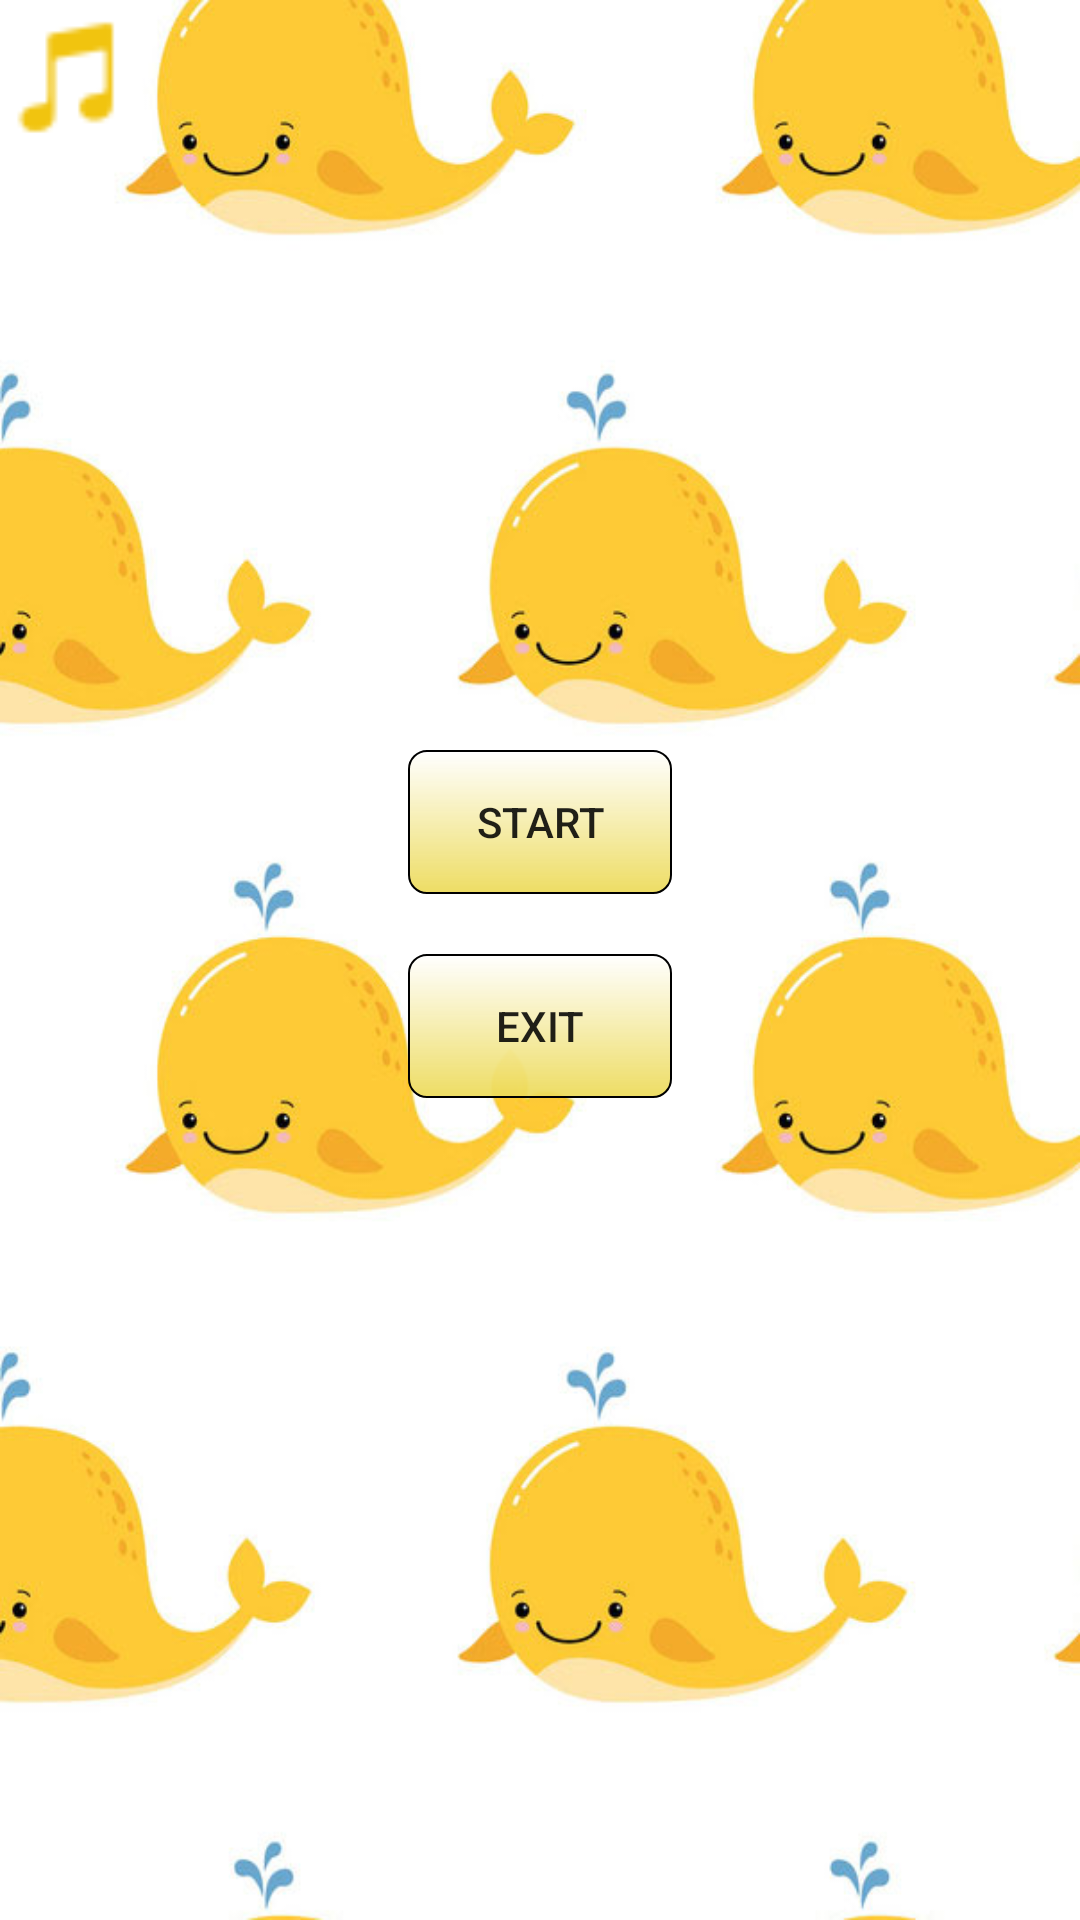

Icon bounding boxes for this 1080 × 1920 phone screenshot, format (left=x1, top=y1, right=x2, bottom=y2):
music: (left=17, top=22, right=114, bottom=133)
